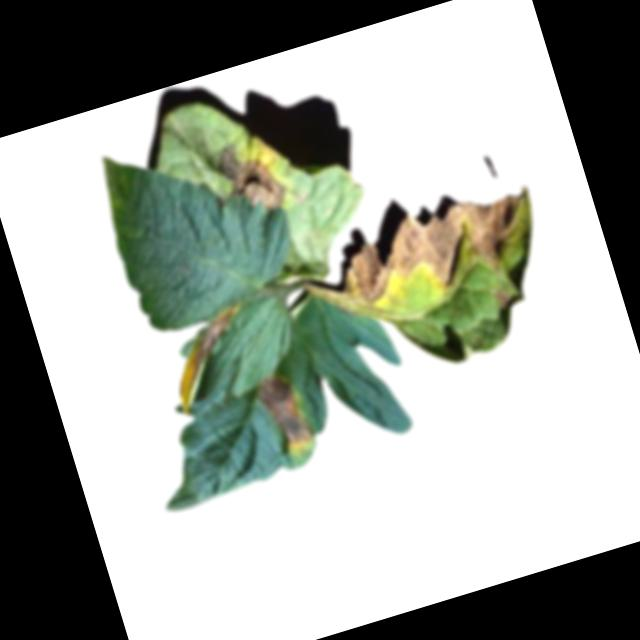Early_blight: (328, 177, 558, 316), (163, 309, 260, 407), (204, 133, 287, 225), (254, 370, 319, 458), (489, 285, 515, 312)
